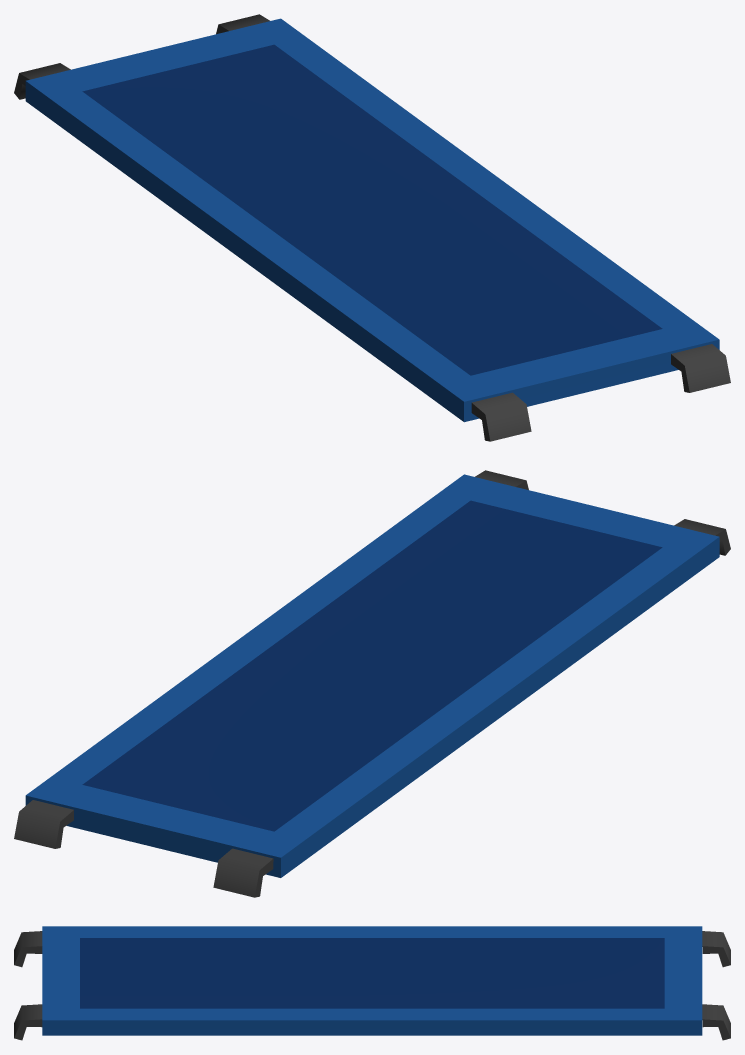
The model's file is Scaffolding_Plank_B.fbx.
3 renders of one model, top to bottom at view 1: azimuth 30°, elevation 25°; view 2: azimuth 150°, elevation 25°; view 3: azimuth 270°, elevation 25°, orthographic. The views are drawn at different scales.
Parts seen in each view (by area): view 1: Scaffolding_Plank_B; view 2: Scaffolding_Plank_B; view 3: Scaffolding_Plank_B.
Part boxes in pixels (x1=…): Scaffolding_Plank_B: x1=14, y1=14, x2=730, y2=441; Scaffolding_Plank_B: x1=14, y1=470, x2=730, y2=897; Scaffolding_Plank_B: x1=14, y1=926, x2=730, y2=1040.
Bounding box in the file's own units: 65.43 × 7.53 × 211.
